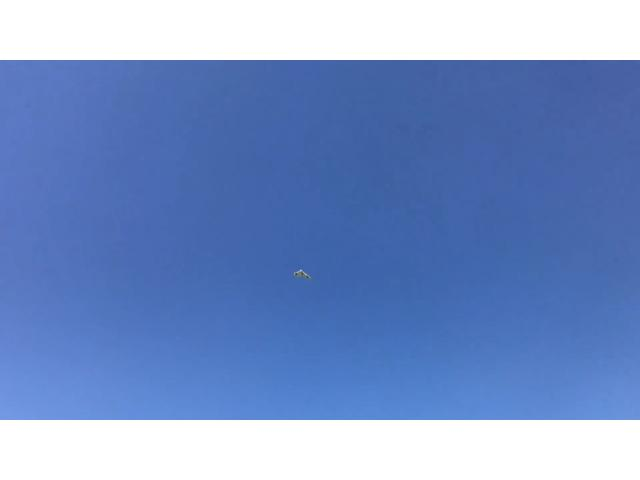Anti-Drone: (289, 261, 323, 283)
